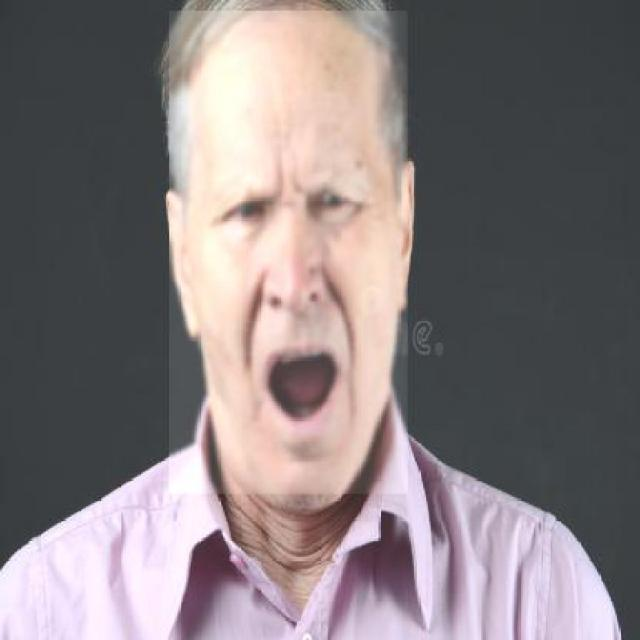Yawn: (180, 64, 409, 515)
